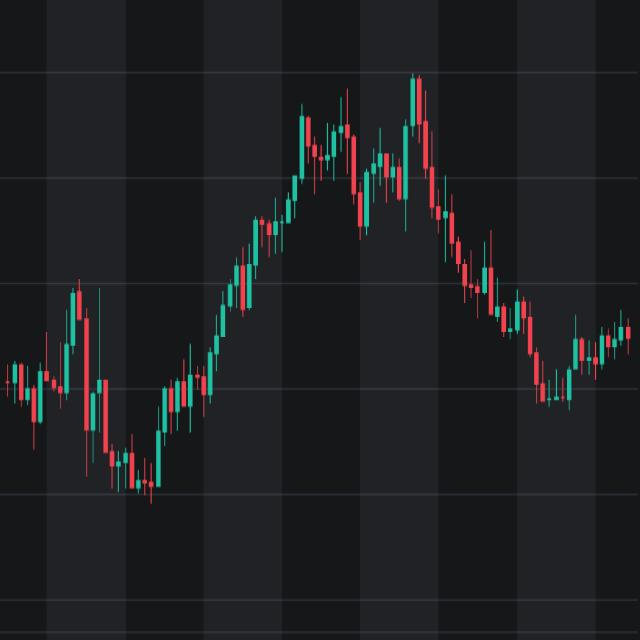Resistance-Emerging: (268, 61, 456, 243)
Resistance-breakout: (0, 68, 373, 501)
